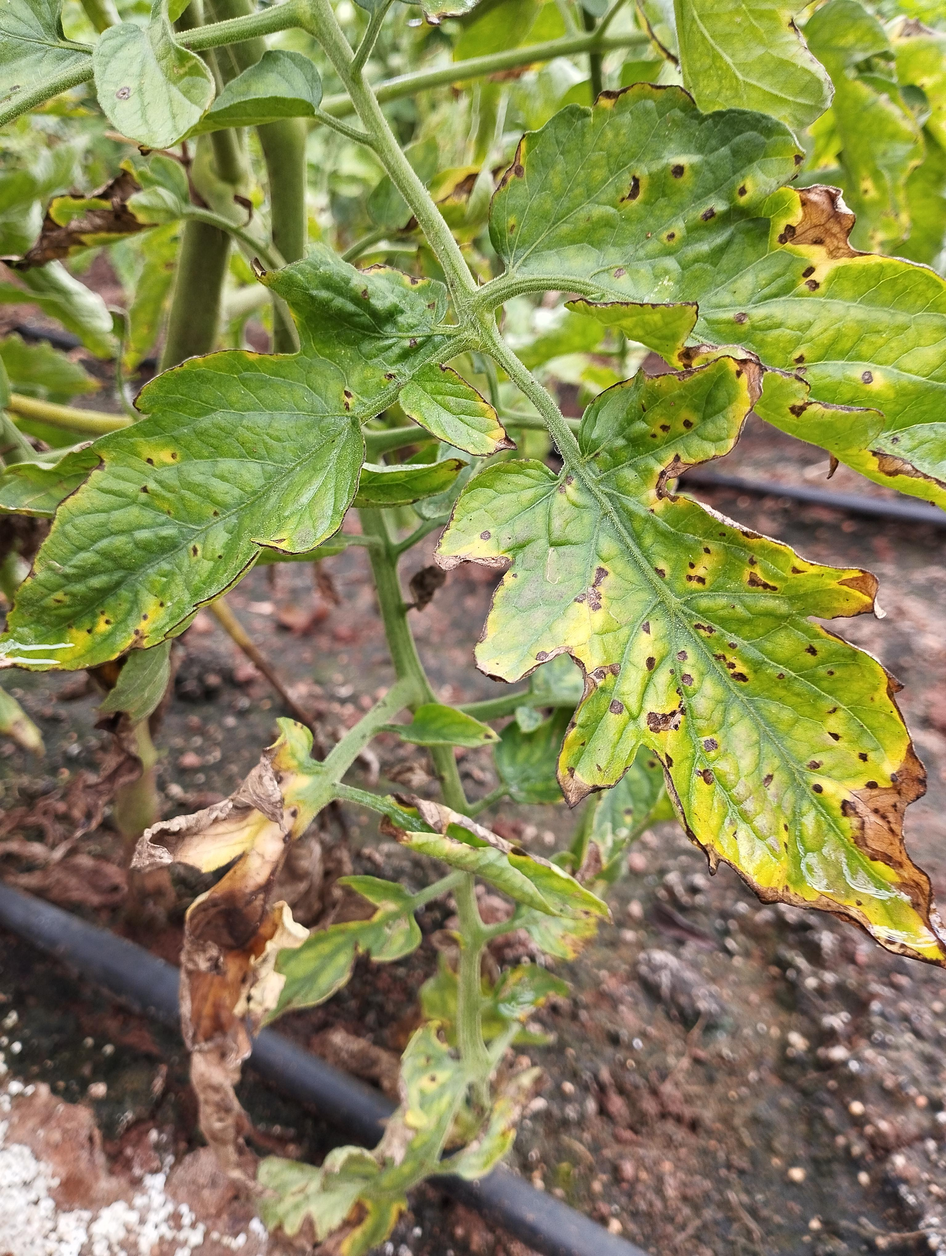Early Blight: (426, 356, 946, 960), (481, 75, 946, 495), (0, 341, 379, 683), (118, 708, 333, 1184)
